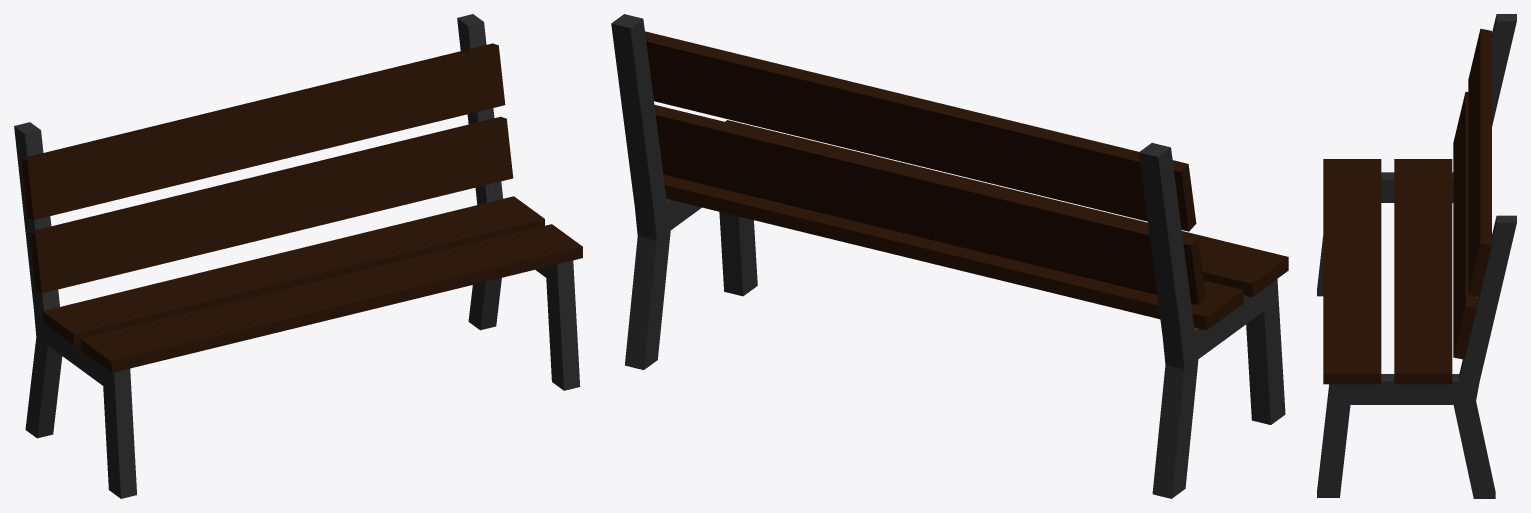
File: Banc.fbx
3 views of the same model, side by side, from view 1: azimuth 30°, elevation 25°; view 2: azimuth 150°, elevation 25°; view 3: azimuth 270°, elevation 25° (orthographic). The views are drawn at different scales.
Parts seen in each view (by area): view 1: Box010; view 2: Box010; view 3: Box010.
Part boxes in pixels (x1=…): Box010: x1=14, y1=14, x2=582, y2=498; Box010: x1=611, y1=14, x2=1288, y2=498; Box010: x1=1317, y1=14, x2=1516, y2=498.
Size of the model in its own units: 248 by 149 by 97.54.
